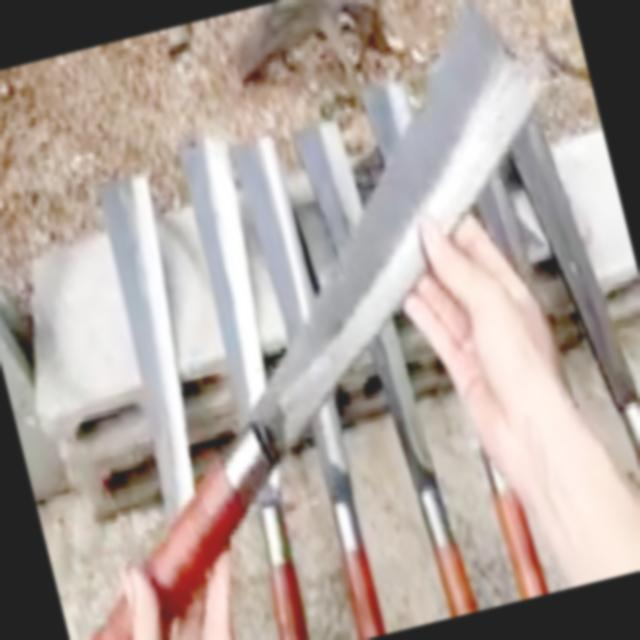eto: (91, 0, 551, 640)
